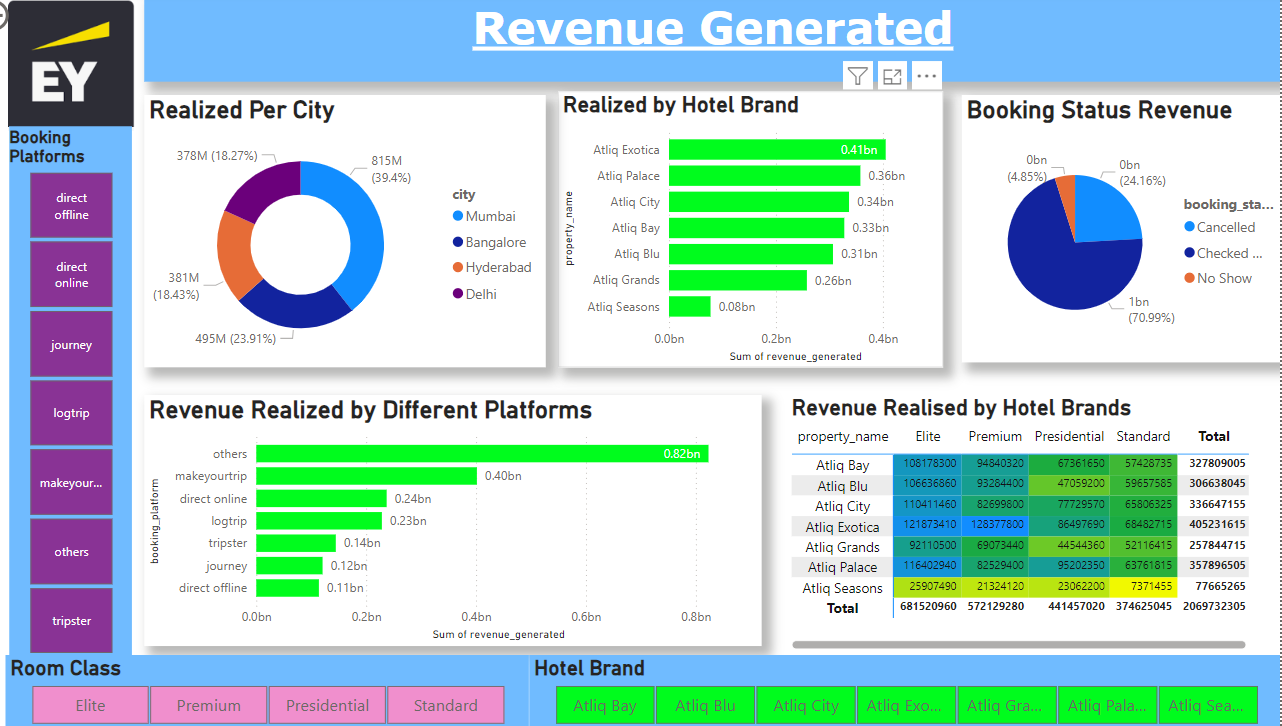

The page's visual inventory and layout, read from the dashboard file:
{"tool":"powerbi","page":{"name":"Revenue Generated","canvas":[1280,720],"ordinal":2},"visuals":[{"type":"textbox","box":[167.6,0,1112.7,84.4],"z":0},{"type":"clusteredBarChart","title":"Revenue Realized by Different Platforms","fields":{"Category":["fact_bookings.booking_platform"],"Y":["Sum(fact_bookings.revenue_generated)"]},"box":[166.9,391.8,604.3,245.6],"z":1000},{"type":"image","box":[0,0,191.5,137.8],"z":2000},{"type":"clusteredBarChart","title":"Realized by Hotel Brand","fields":{"Category":["dim_hotels.property_name"],"Y":["Sum(fact_bookings.revenue_generated)"]},"box":[572.3,94.2,376.6,270.2],"z":3000},{"type":"donutChart","title":"Realized Per City","fields":{"Category":["dim_hotels.city"],"Y":["Sum(fact_bookings.revenue_generated)"]},"box":[166.9,98,393.2,266.3],"z":4000},{"type":"pivotTable","title":"Revenue Realised by Hotel Brands","fields":{"Values":["Sum(fact_bookings.revenue_generated)"],"Rows":["dim_hotels.property_name"],"Columns":["dim_rooms.room_class"]},"box":[796,391.8,456.7,253.8],"z":5000},{"type":"actionButton","box":[0,0,100,40],"z":6000},{"type":"slicer","title":"Room Class","fields":{"Values":["dim_rooms.room_class"]},"box":[31.7,645.7,511.8,74.5],"z":7000},{"type":"slicer","title":"Hotel Brand","fields":{"Values":["dim_hotels.property_name"]},"box":[543.6,645.7,736.7,74.5],"z":8000},{"type":"slicer","title":"Booking Platforms","fields":{"Values":["fact_bookings.booking_platform"]},"box":[35.9,128.3,120,517.4],"z":9000},{"type":"pieChart","title":"Booking Status Revenue","fields":{"Series":["fact_bookings.booking_status"],"Y":["Sum(fact_bookings.revenue_generated)"]},"box":[967.3,97.8,313,261.7],"z":10000}]}

Visuals, with their boxes in screenshot pixels (x1, y1, x2, y2), scaled from the page's 1280x720 canvas onto the 1282x726 screenshot:
textbox: <region>168, 0, 1281, 85</region>
"Revenue Realized by Different Platforms" clusteredBarChart: <region>167, 395, 772, 643</region>
image: <region>0, 0, 192, 139</region>
"Realized by Hotel Brand" clusteredBarChart: <region>573, 95, 950, 367</region>
"Realized Per City" donutChart: <region>167, 99, 561, 367</region>
"Revenue Realised by Hotel Brands" pivotTable: <region>797, 395, 1255, 651</region>
actionButton: <region>0, 0, 100, 40</region>
"Room Class" slicer: <region>32, 651, 544, 725</region>
"Hotel Brand" slicer: <region>544, 651, 1281, 725</region>
"Booking Platforms" slicer: <region>36, 129, 156, 651</region>
"Booking Status Revenue" pieChart: <region>969, 99, 1281, 362</region>
